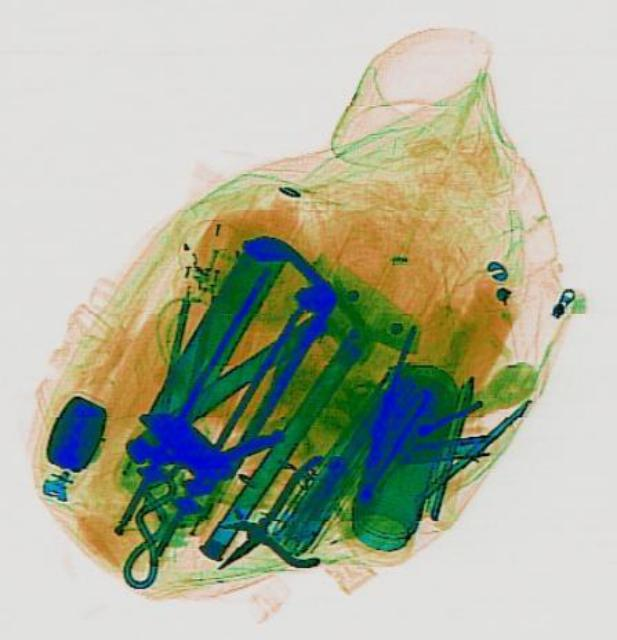Pliers: (193, 452, 346, 586)
